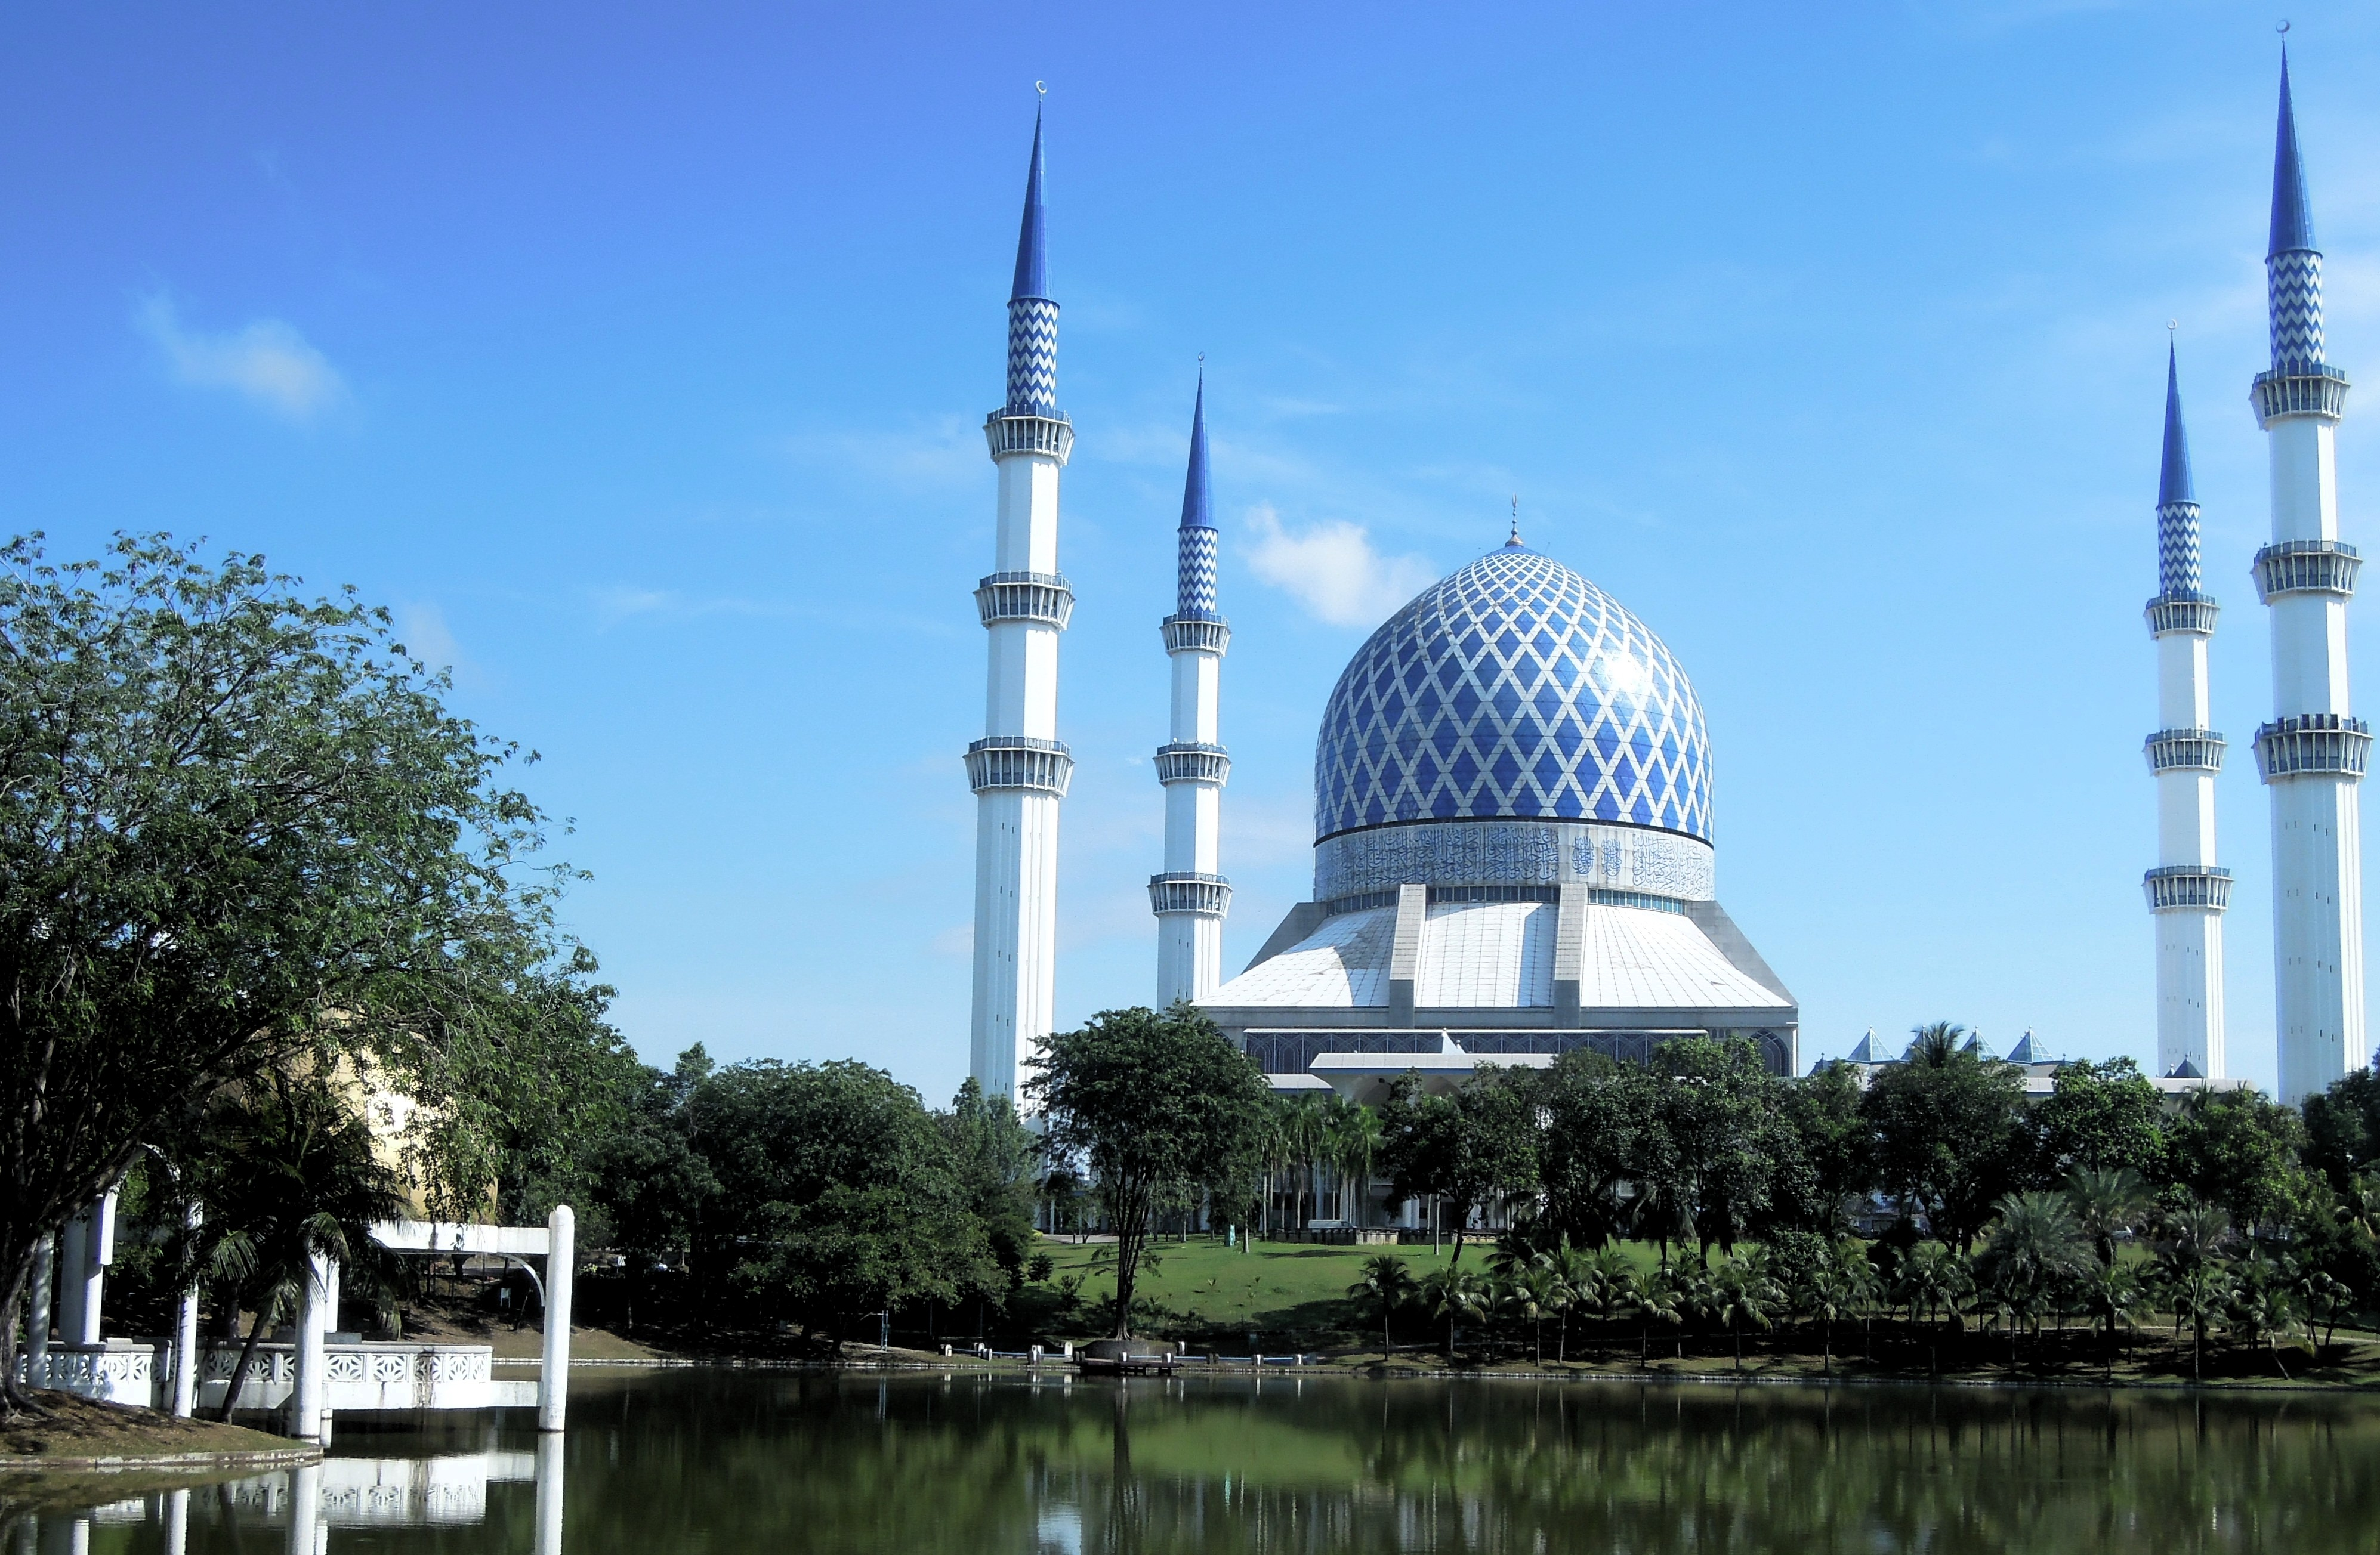Mosque: (957, 61, 2373, 1121)
